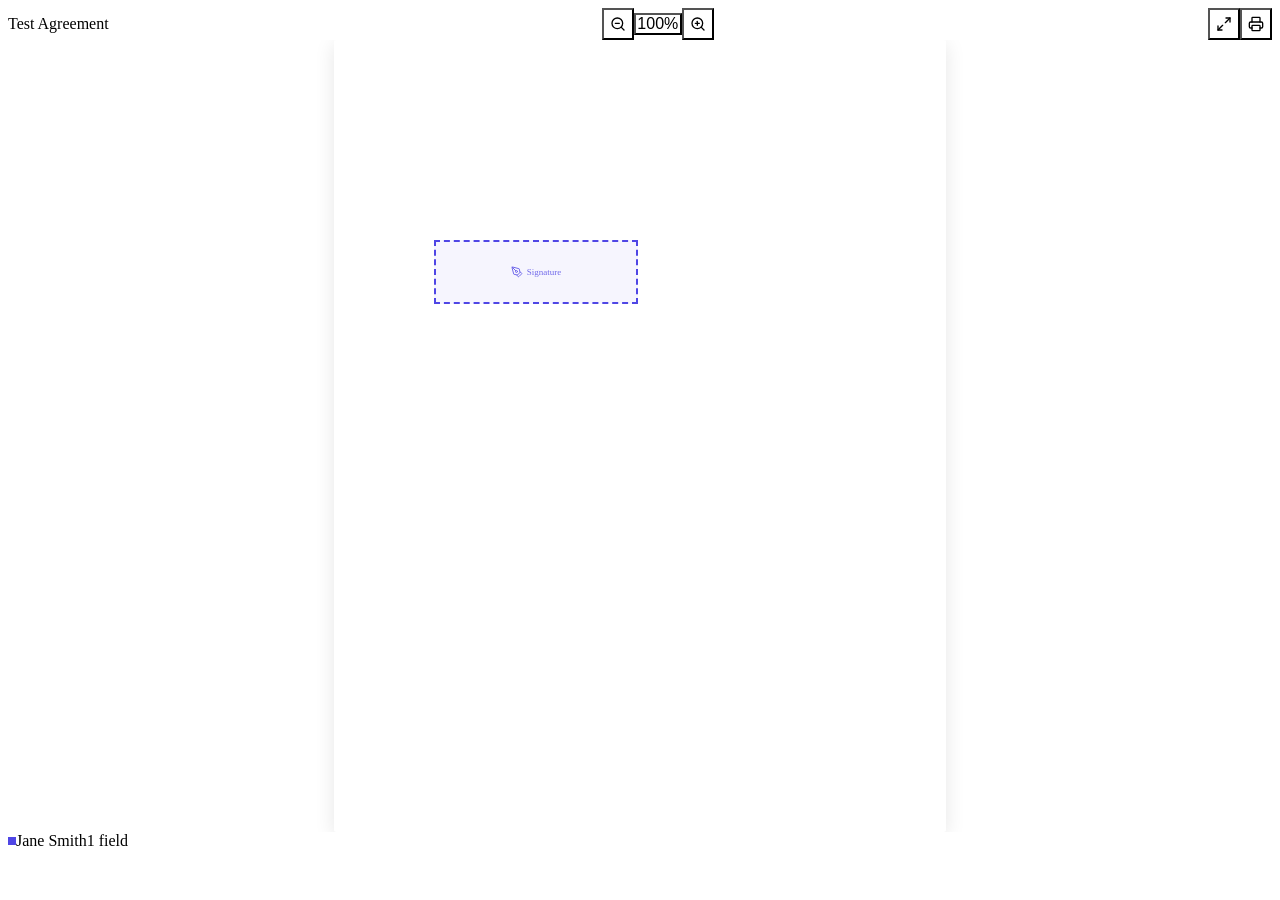
Test: DocumentPreview › zoom in button increases zoom level
The image size is (1280, 900).
Click the button named "Zoom in". click: (698, 24)
box: [682,8,714,40]
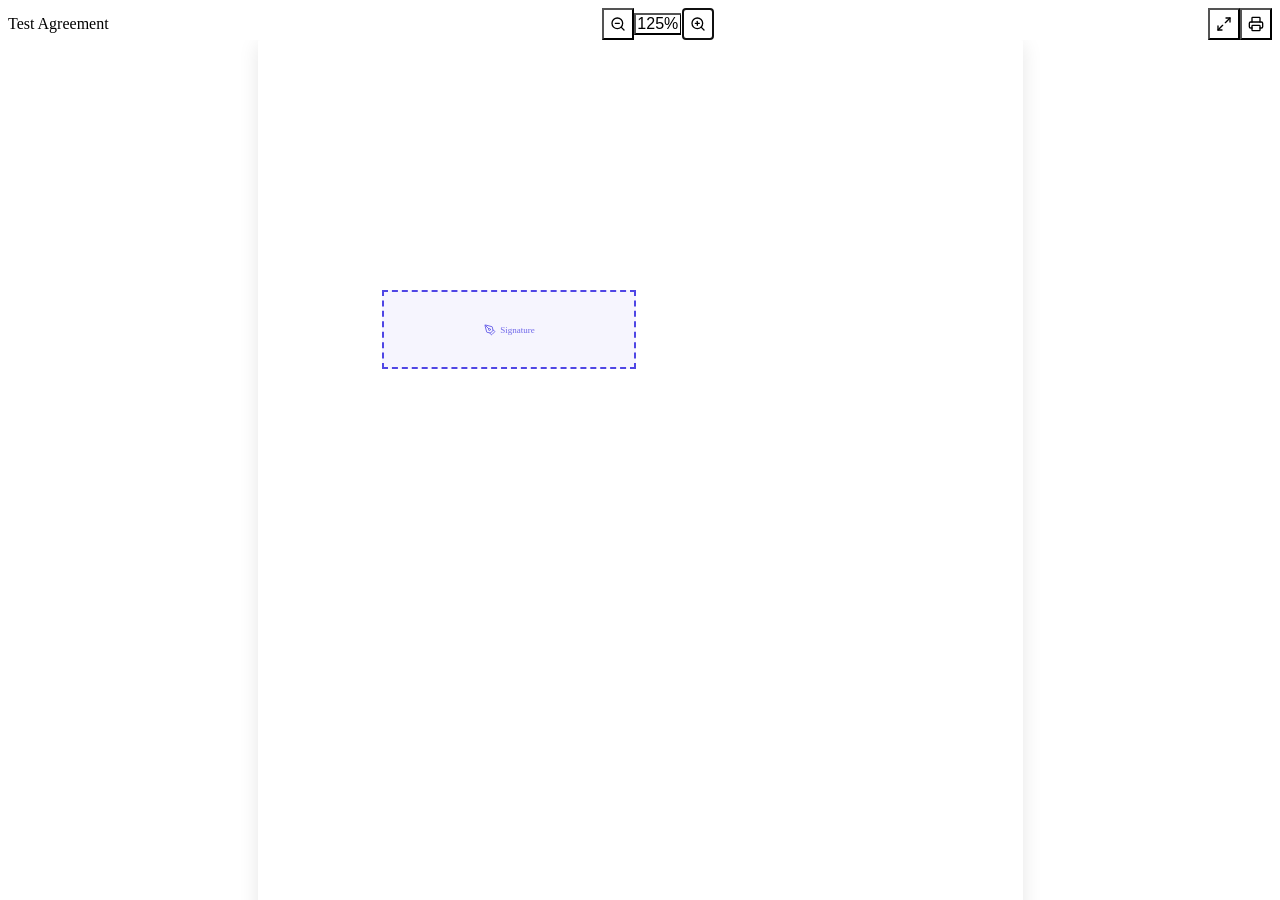
Result: the button named "Reset zoom" reads "125%" at [634,13,682,35]
